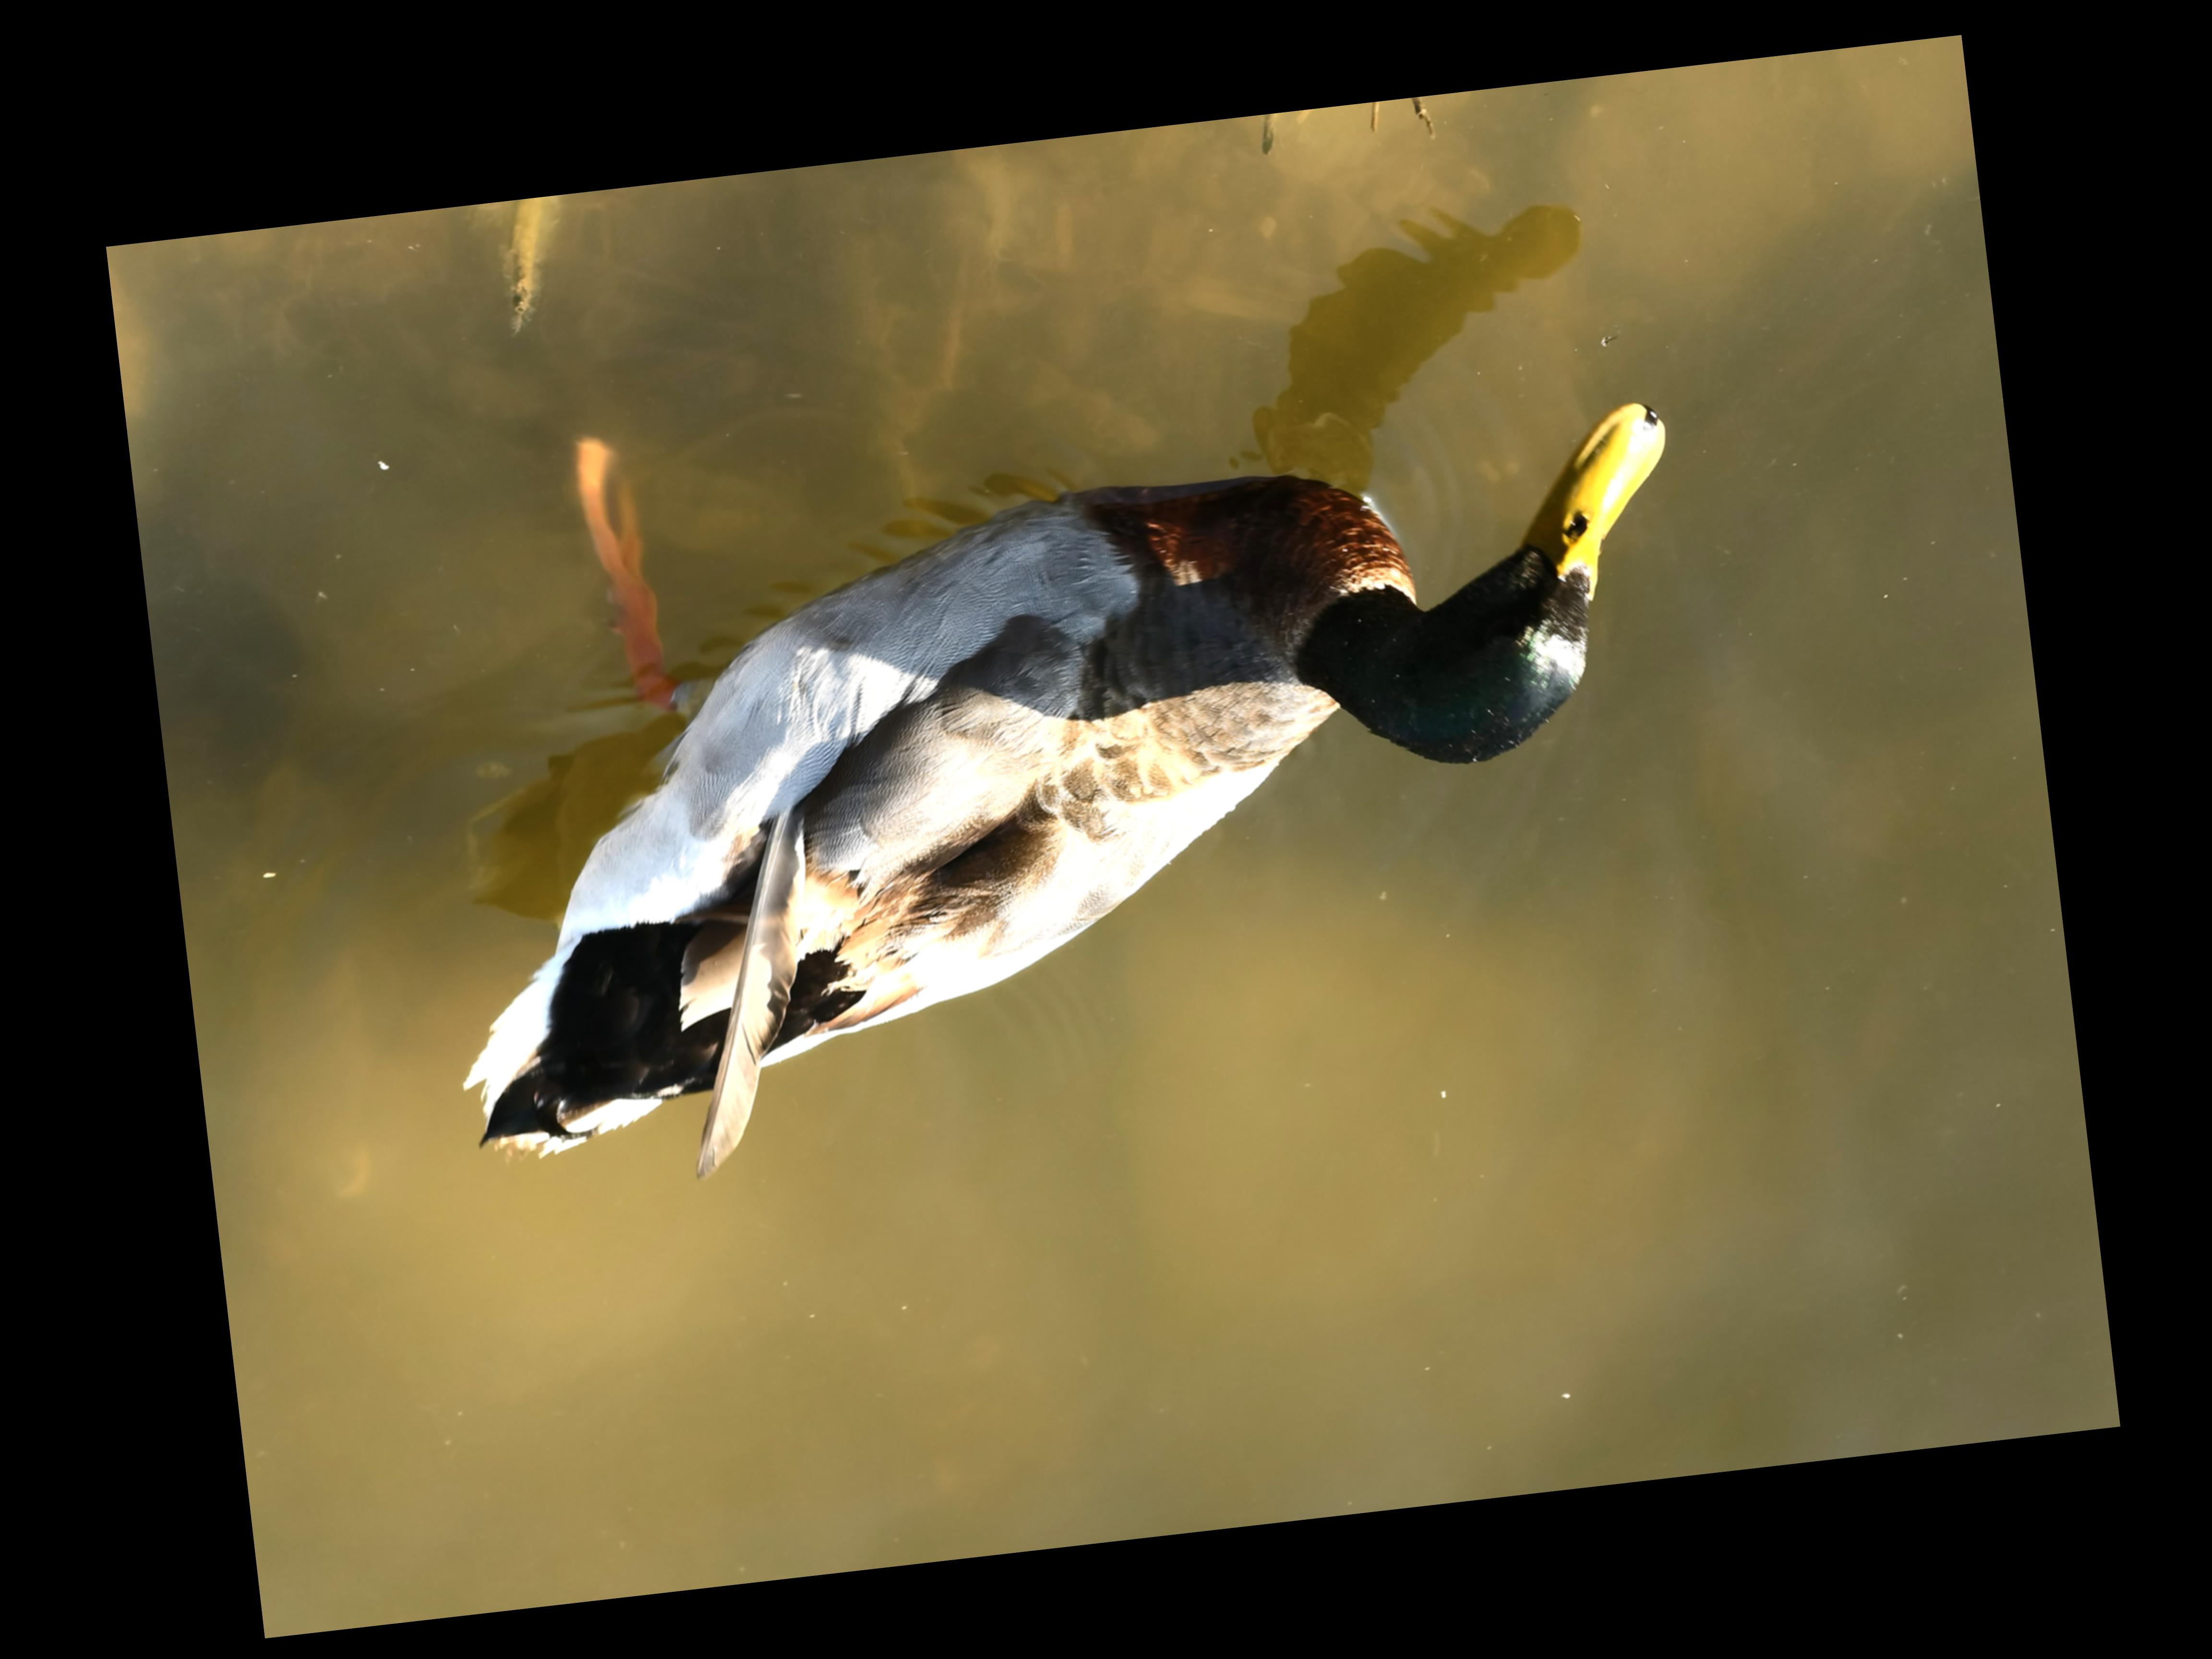duck: (352, 317, 1780, 1232)
